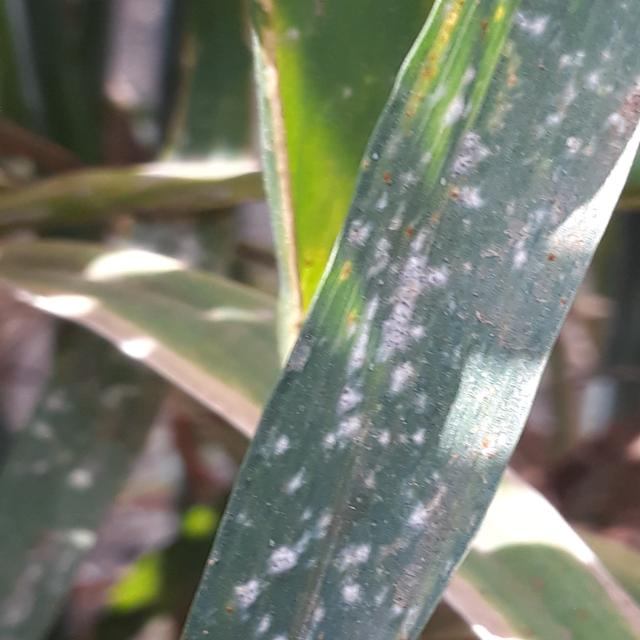powder_mildew: (175, 1, 634, 640), (0, 96, 236, 640)
